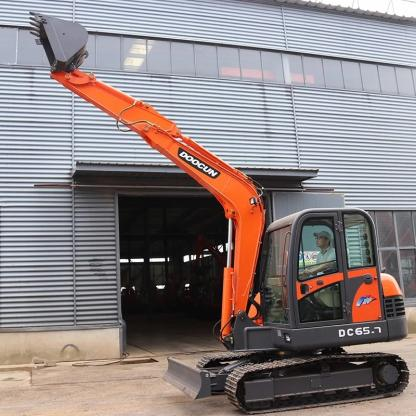excavator: (18, 4, 412, 403)
